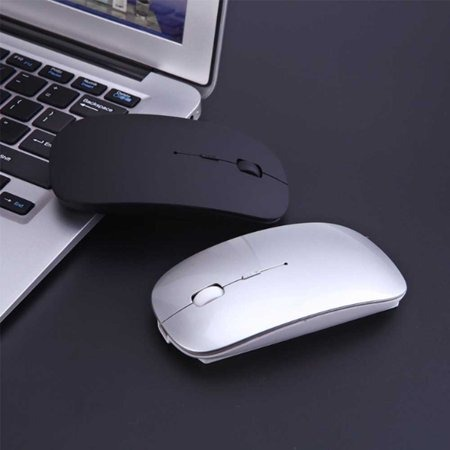mouse: (128, 211, 411, 378), (33, 111, 290, 233)
